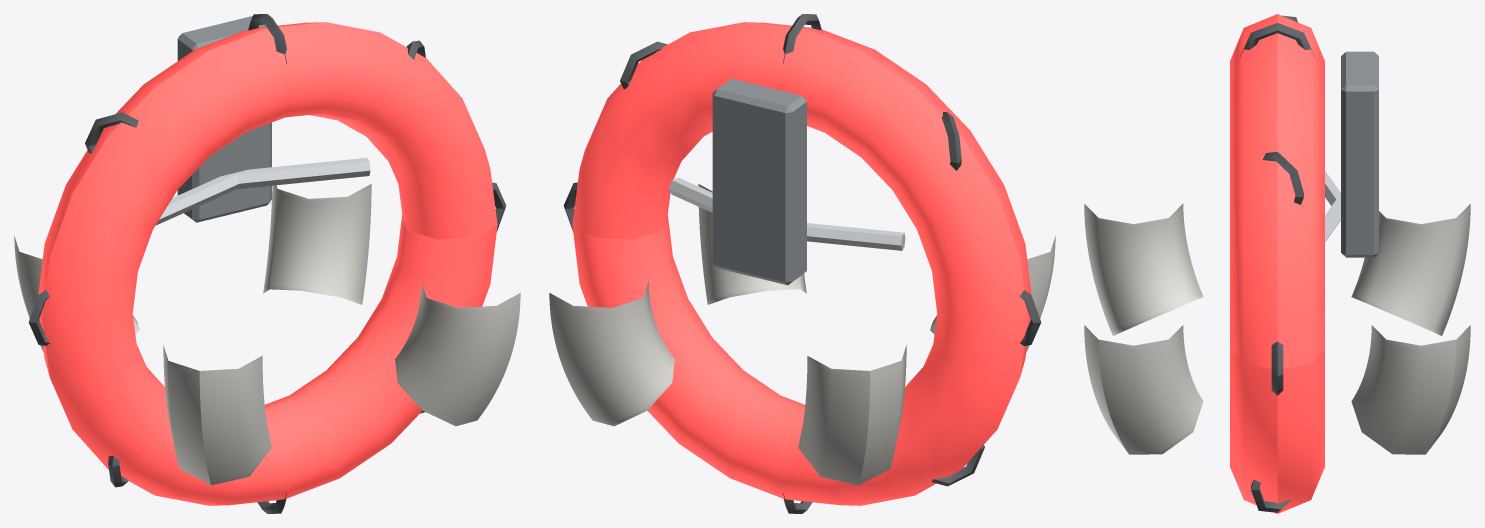
The model's file is submarine-interior-and-control-room-life-ring-on-brack-449f02bf.glb.
The picture shows the model from 3 angles, left to right: view 1: azimuth 30°, elevation 25°; view 2: azimuth 150°, elevation 25°; view 3: azimuth 270°, elevation 25°; orthographic projection. The views are drawn at different scales.
Parts seen in each view (by area): view 1: life-ring-on-bracket; view 2: life-ring-on-bracket; view 3: life-ring-on-bracket.
Part boxes in pixels (x1,y1,x2,y2): life-ring-on-bracket: (14, 14, 520, 513); life-ring-on-bracket: (549, 14, 1055, 513); life-ring-on-bracket: (1084, 14, 1470, 513).
Size of the model in its own units: 0.838 by 0.838 by 0.6085.
